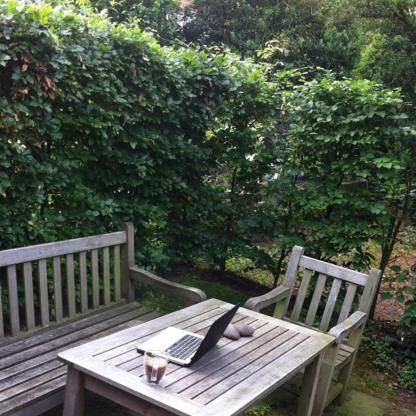board: (136, 304, 240, 365)
